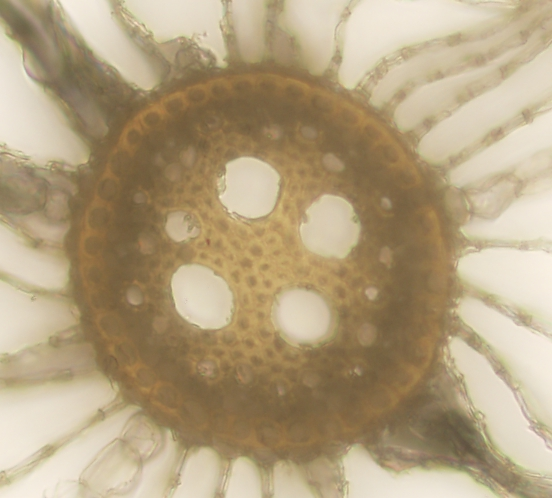lm: (270, 284, 336, 350), (216, 156, 283, 220), (170, 263, 233, 330), (300, 194, 361, 259), (164, 209, 203, 243)
